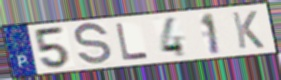1: (198, 11, 224, 55)
4: (156, 16, 190, 58)
5: (33, 24, 73, 71)
K: (229, 9, 266, 51)
L: (114, 22, 151, 61)
S: (73, 21, 114, 68)
